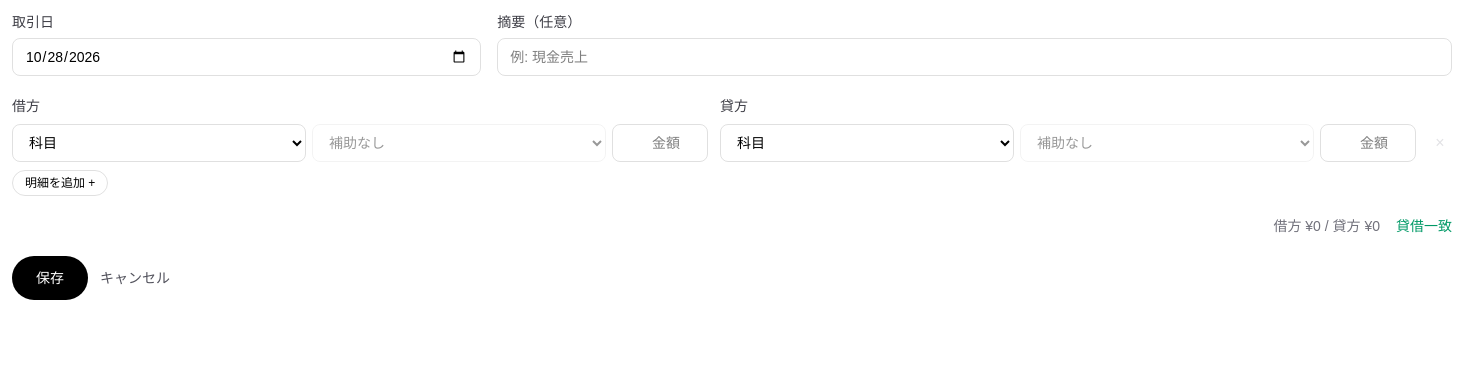
JournalForm › アクションがエラーを返すと画面に表示される
This screenshot has width=1464, height=383.
Type "1000" into the 1st number field with placeholder "金額" at (660, 143), box [612,124,708,162]
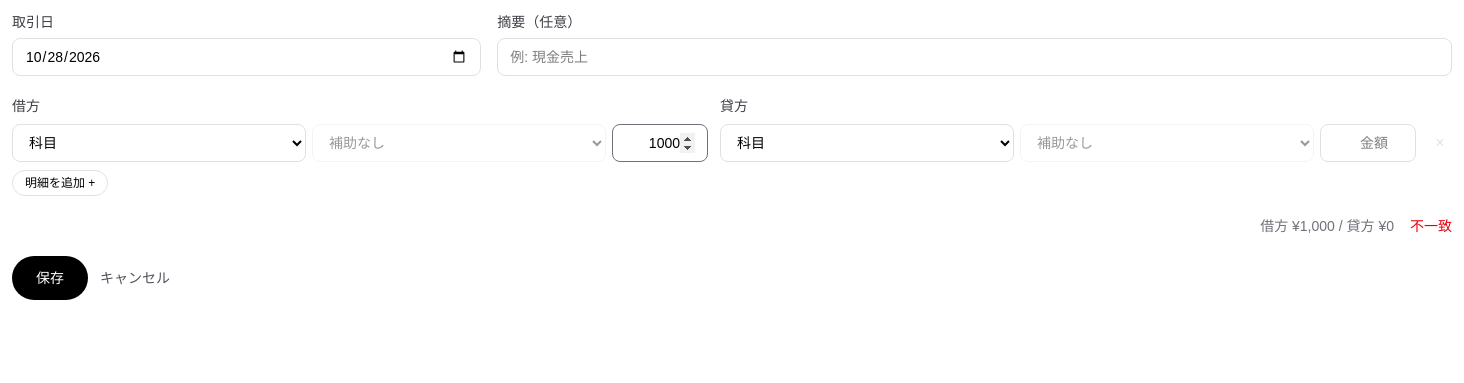
Click the button "保存" at (50, 278), box [12,256,88,300]
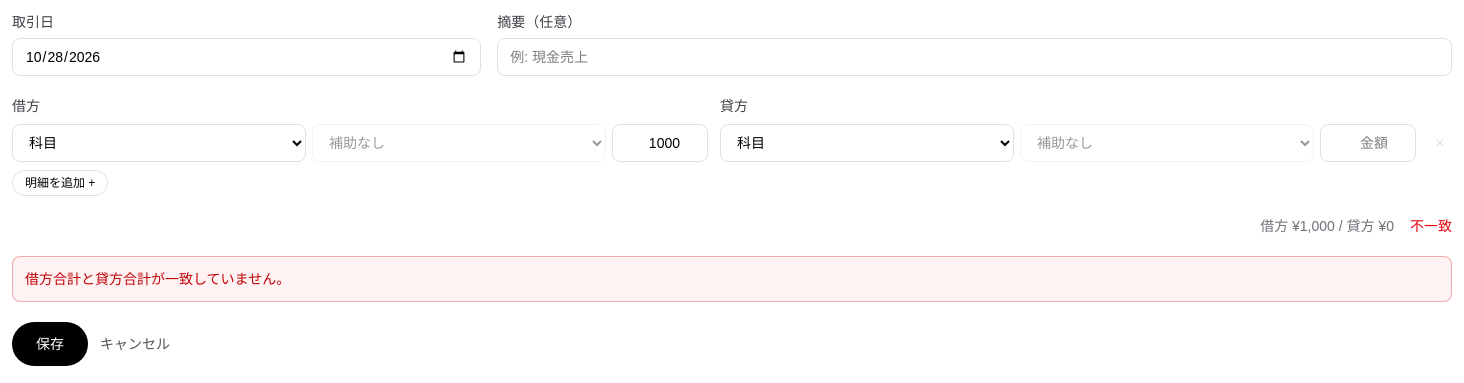
Now the list item "借方合計と貸方合計が一致していません。" is shown, box [25,271,290,287]
